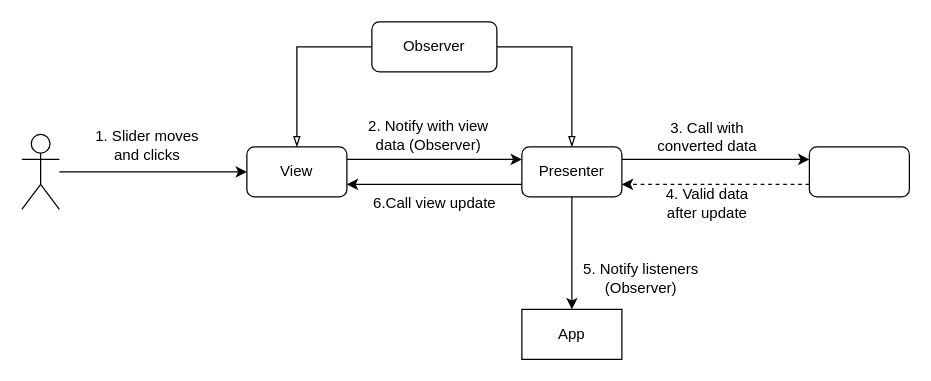
Image size: 931x381. Some labels were removed from this diagram. Here are the shapes that lost their labels. From the top down, the centre of each, then its label:
At point (40, 171): "User".
At point (858, 171): "Model".
